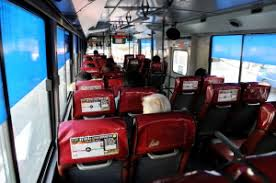seat: (64, 109, 128, 177)
